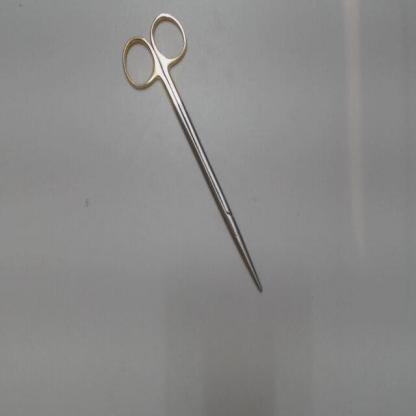7 Metzenbaum Scissors: (118, 11, 268, 301)
